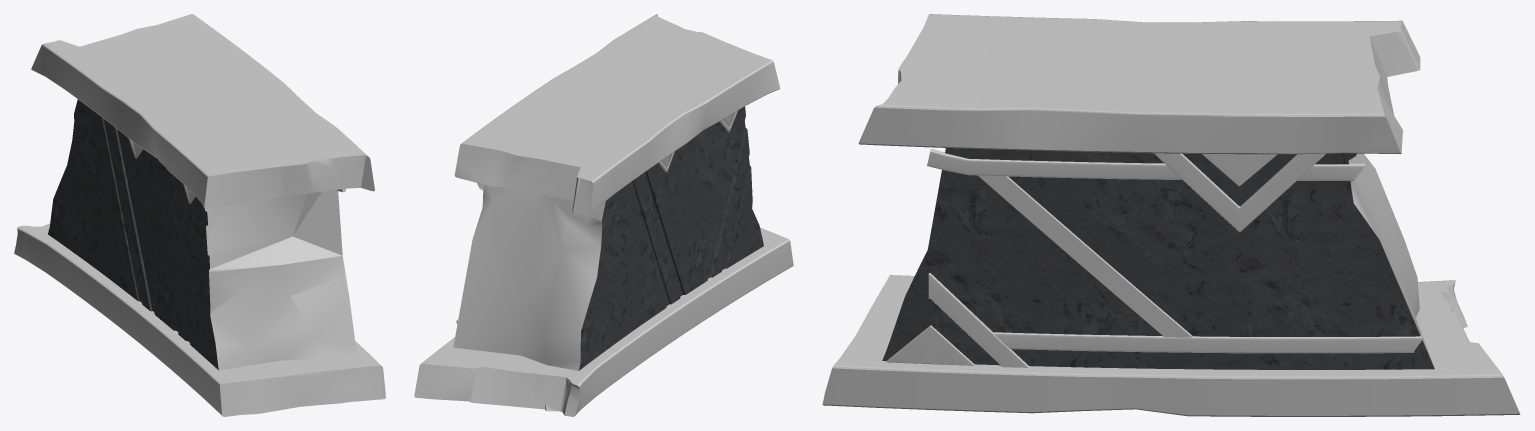
The picture shows the model from 3 angles, left to right: view 1: azimuth 30°, elevation 25°; view 2: azimuth 150°, elevation 25°; view 3: azimuth 270°, elevation 25°; orthographic projection. The views are drawn at different scales.
Visible parts, largest first — view 1: SM_Kuldras_Arena_RingPiece_05_LOD0; view 2: SM_Kuldras_Arena_RingPiece_05_LOD0; view 3: SM_Kuldras_Arena_RingPiece_05_LOD0.
Boxes of the visible parts, x1=… form: SM_Kuldras_Arena_RingPiece_05_LOD0: x1=14, y1=14, x2=385, y2=416; SM_Kuldras_Arena_RingPiece_05_LOD0: x1=414, y1=14, x2=793, y2=416; SM_Kuldras_Arena_RingPiece_05_LOD0: x1=822, y1=14, x2=1520, y2=416.
Bounding box in the file's own units: 8.49 × 11.4 × 23.75.
